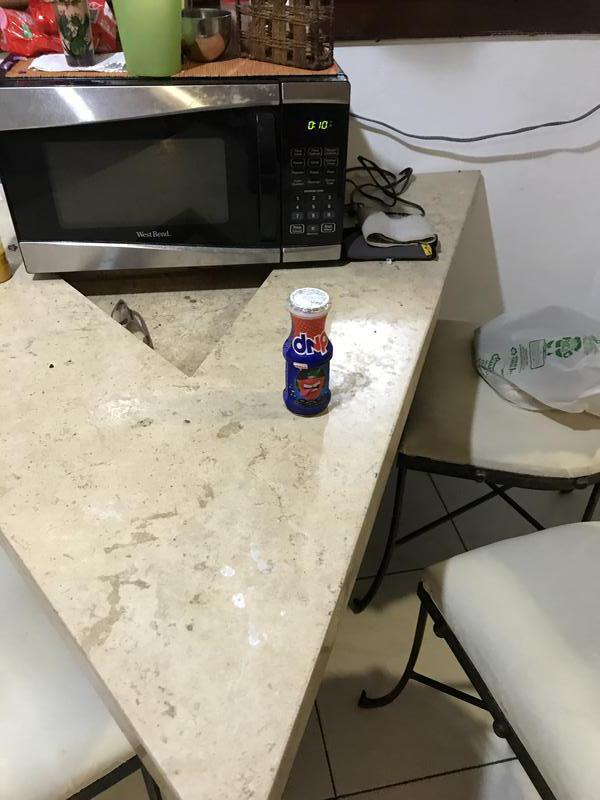danup: (282, 287, 336, 414)
